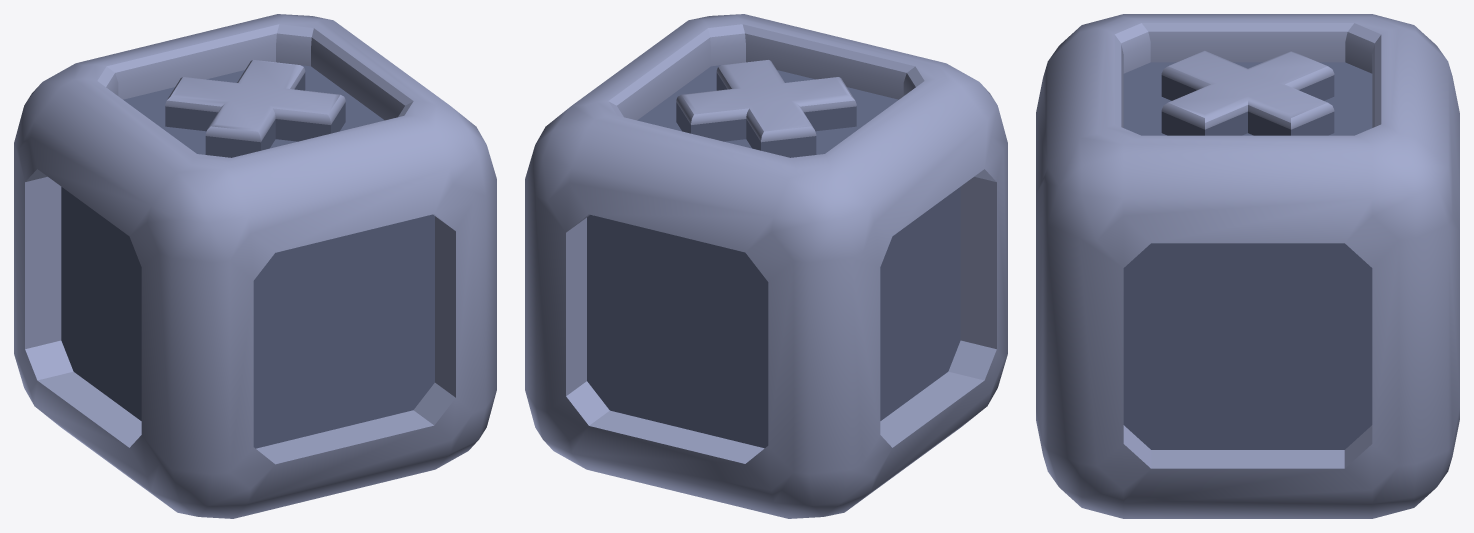
Rendered from Crate002.fbx.
The picture shows the model from 3 angles, left to right: view 1: azimuth 30°, elevation 25°; view 2: azimuth 150°, elevation 25°; view 3: azimuth 270°, elevation 25°; orthographic projection. The views are drawn at different scales.
Parts seen in each view (by area): view 1: Crate002; view 2: Crate002; view 3: Crate002.
Part boxes in pixels (box(x1,y1,x2,y2)): Crate002: box(14, 14, 496, 518); Crate002: box(525, 14, 1007, 518); Crate002: box(1036, 14, 1459, 518).
Bounding box in the file's own units: 156 × 155 × 156.
